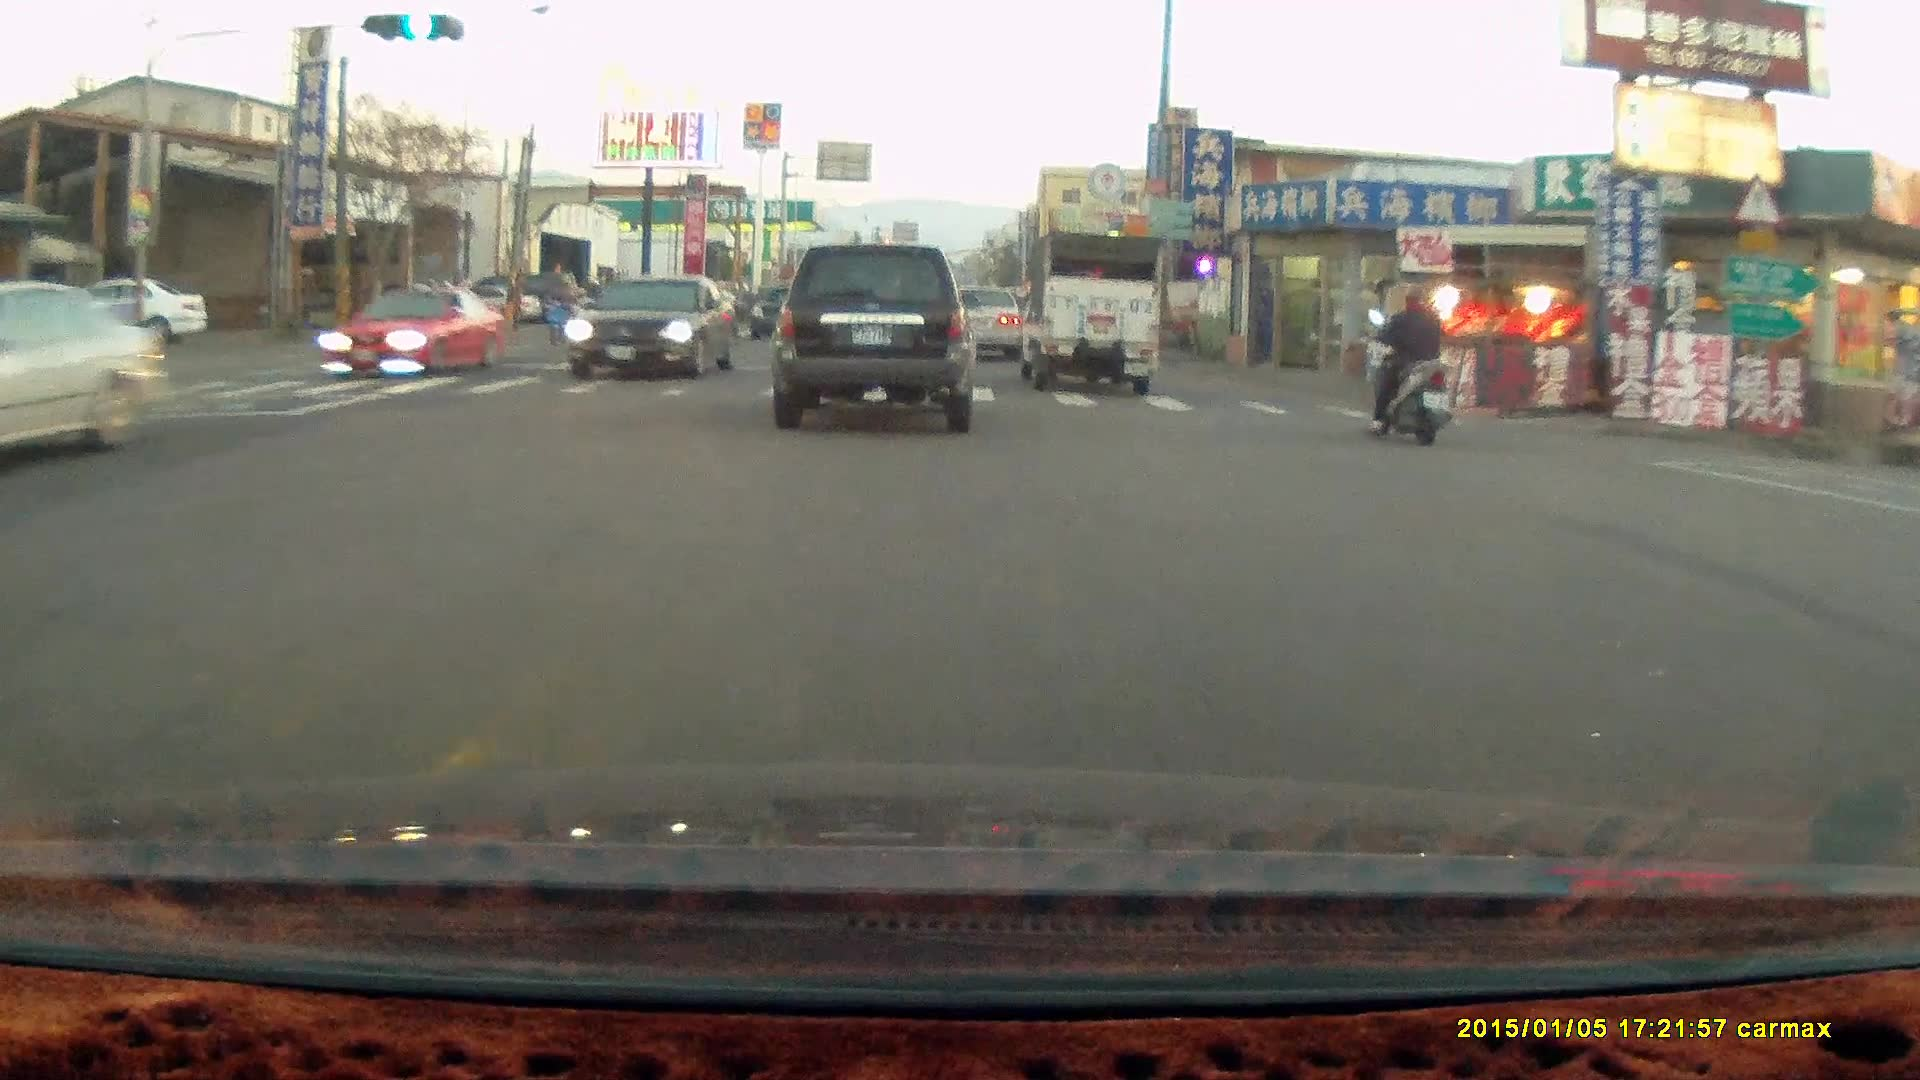rider: (1362, 279, 1451, 445), (539, 280, 577, 344)
vehicle: (768, 243, 982, 434), (1, 283, 169, 481), (1013, 225, 1164, 395), (564, 274, 740, 383), (323, 283, 504, 380), (22, 277, 211, 348), (946, 286, 1030, 366), (939, 284, 1023, 362)
